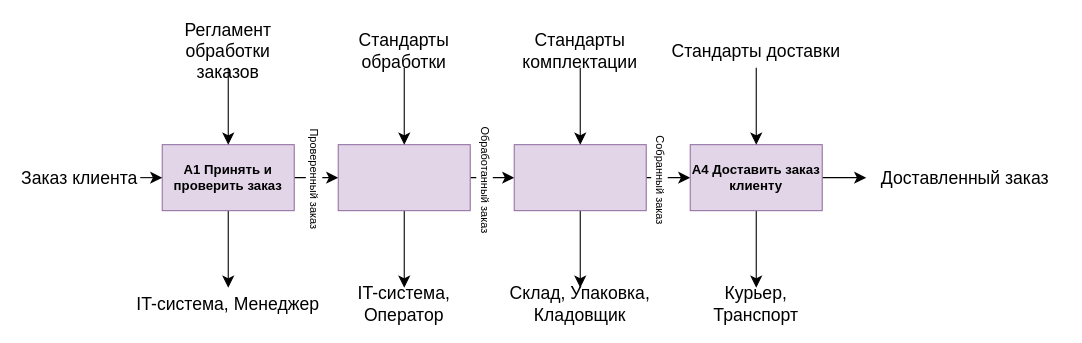
This 1082x343 diagram has some shape labels left out. The centre of each missing label's shape, as x and y in pixels:
"A2 Обработать заказ" goes at point 403,177.
"A3 Собрать заказ на складе" goes at point 579,177.
